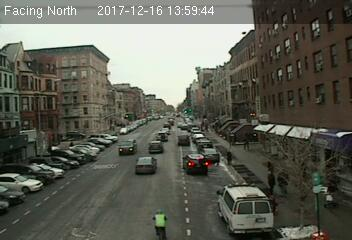bicycle: (151, 208, 170, 240)
car: (183, 154, 208, 174), (134, 156, 159, 174), (118, 139, 137, 154), (200, 149, 220, 163), (149, 140, 162, 153), (177, 134, 190, 145), (156, 131, 168, 141)
police: (215, 182, 278, 234)
